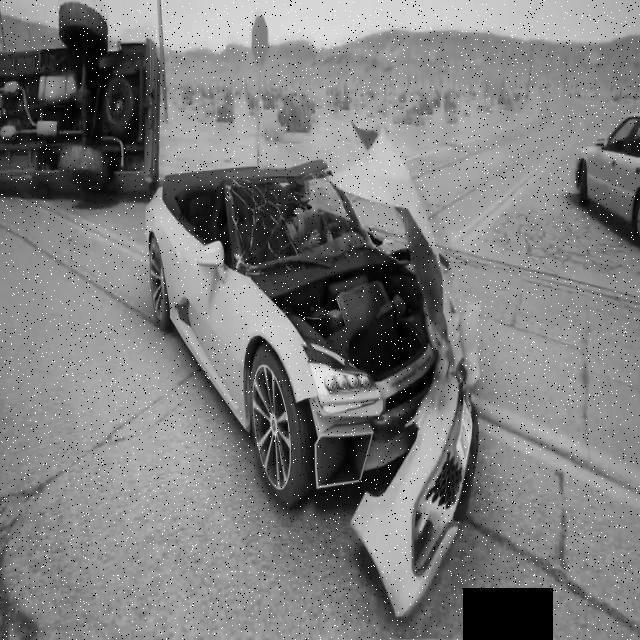accident: (140, 116, 484, 615), (2, 2, 166, 208)
vehicle: (570, 99, 640, 247)
